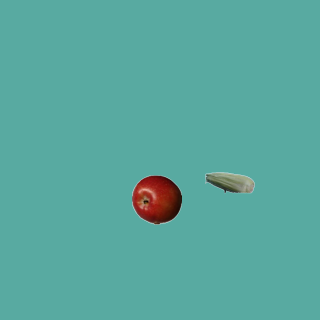Apple Braeburn: (131, 174, 181, 224)
Corn Husk: (204, 157, 254, 207)
